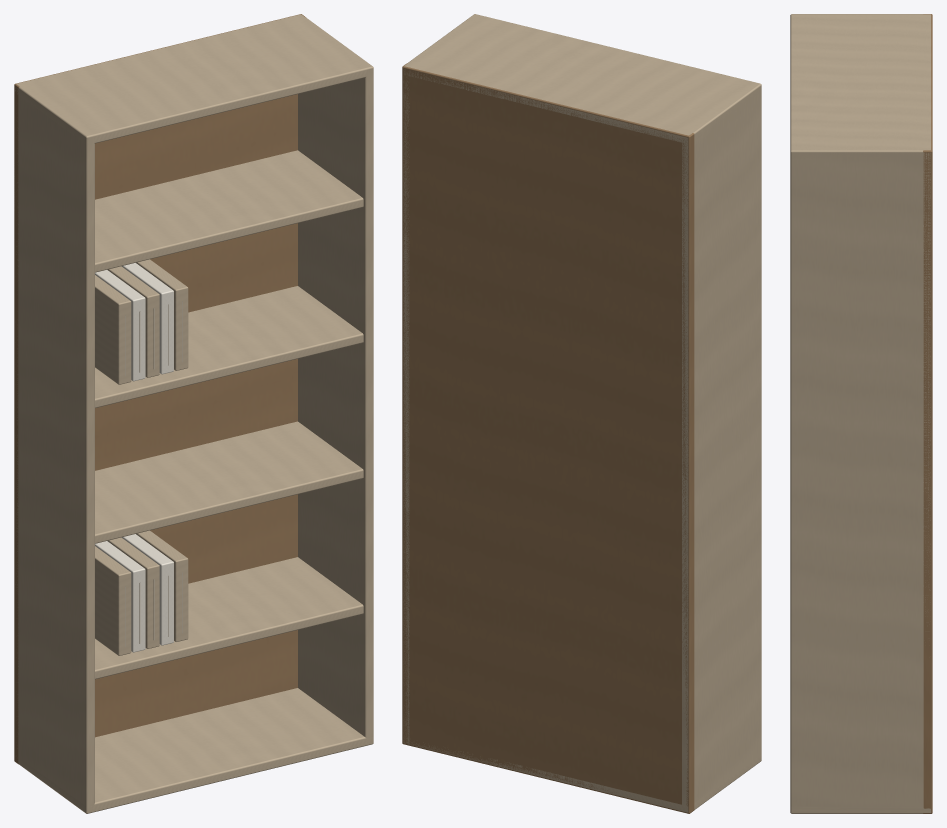
3 views of the same model, side by side, from view 1: azimuth 30°, elevation 25°; view 2: azimuth 150°, elevation 25°; view 3: azimuth 270°, elevation 25° (orthographic). The views are drawn at different scales.
Visible parts, largest first — view 1: back, side_-1, side_1, top, bottom, shelf_2, shelf_4, shelf_3, shelf_1, book_3_0, book_1_0, book_1_4 (+7 smaller); view 2: back, side_-1, top, side_1, bottom; view 3: side_1, top, back, bottom.
Part boxes in pixels (bbox=[...]): back: bbox=[14, 14, 305, 764]; side_-1: bbox=[14, 91, 94, 813]; side_1: bbox=[298, 68, 373, 743]; top: bbox=[15, 14, 373, 144]; bottom: bbox=[18, 688, 373, 813]; shelf_2: bbox=[95, 421, 363, 543]; shelf_4: bbox=[95, 150, 363, 272]; shelf_3: bbox=[95, 286, 363, 407]; shelf_1: bbox=[95, 557, 363, 679]; book_3_0: bbox=[95, 275, 131, 384]; book_1_0: bbox=[95, 546, 131, 655]; book_1_4: bbox=[136, 530, 188, 641]; back: bbox=[402, 63, 694, 813]; side_-1: bbox=[682, 86, 761, 805]; top: bbox=[404, 14, 761, 143]; side_1: bbox=[403, 69, 409, 744]; bottom: bbox=[403, 738, 761, 812]; side_1: bbox=[790, 152, 930, 806]; top: bbox=[790, 14, 930, 158]; back: bbox=[923, 14, 932, 813]; bottom: bbox=[790, 806, 930, 813].
Size of the model in its own units: 0.8 by 1.8 by 0.35.
Materials: 4 (3 with a texture image).
